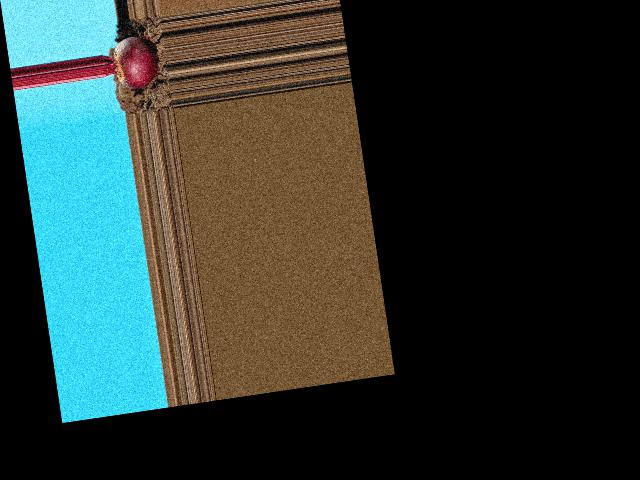beet: (100, 33, 161, 92)
